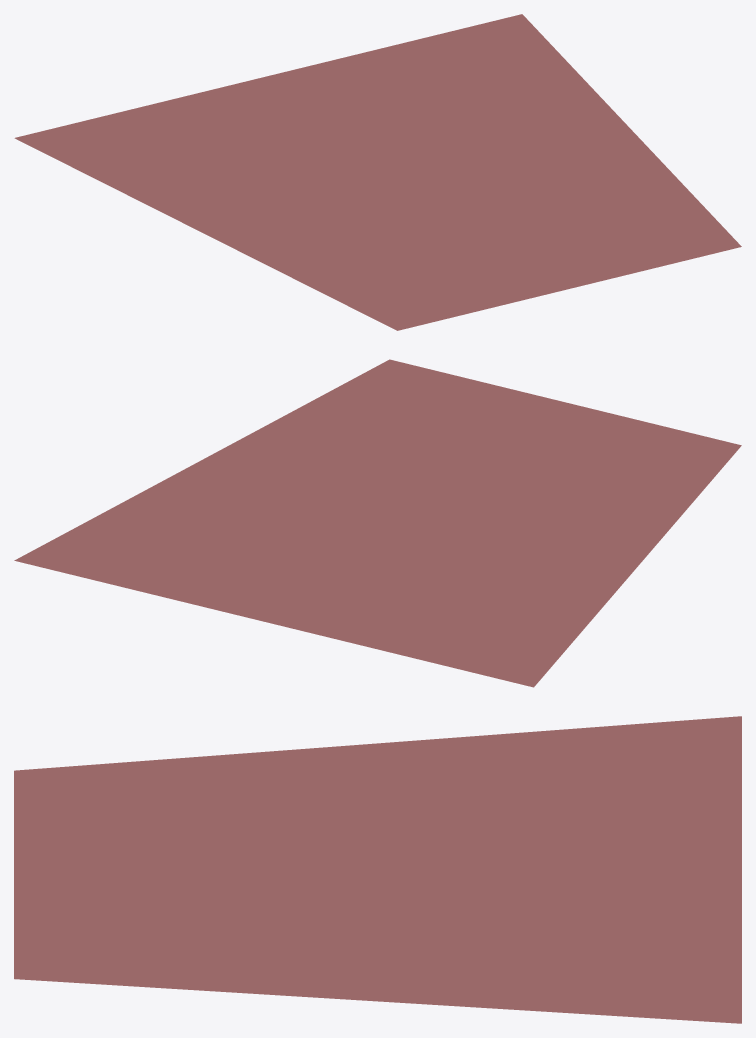
File: single_turn_lake.fbx
The picture shows the model from 3 angles, top to bottom: view 1: azimuth 30°, elevation 25°; view 2: azimuth 150°, elevation 25°; view 3: azimuth 270°, elevation 25°; orthographic projection. The views are drawn at different scales.
Visible parts, largest first — view 1: pCube1; view 2: pCube1; view 3: pCube1.
Boxes of the visible parts, <box> form: pCube1: <box>14,14,741,330</box>; pCube1: <box>14,359,741,687</box>; pCube1: <box>14,716,741,1023</box>.
Size of the model in its own units: 3.09 by 0 by 3.09.
